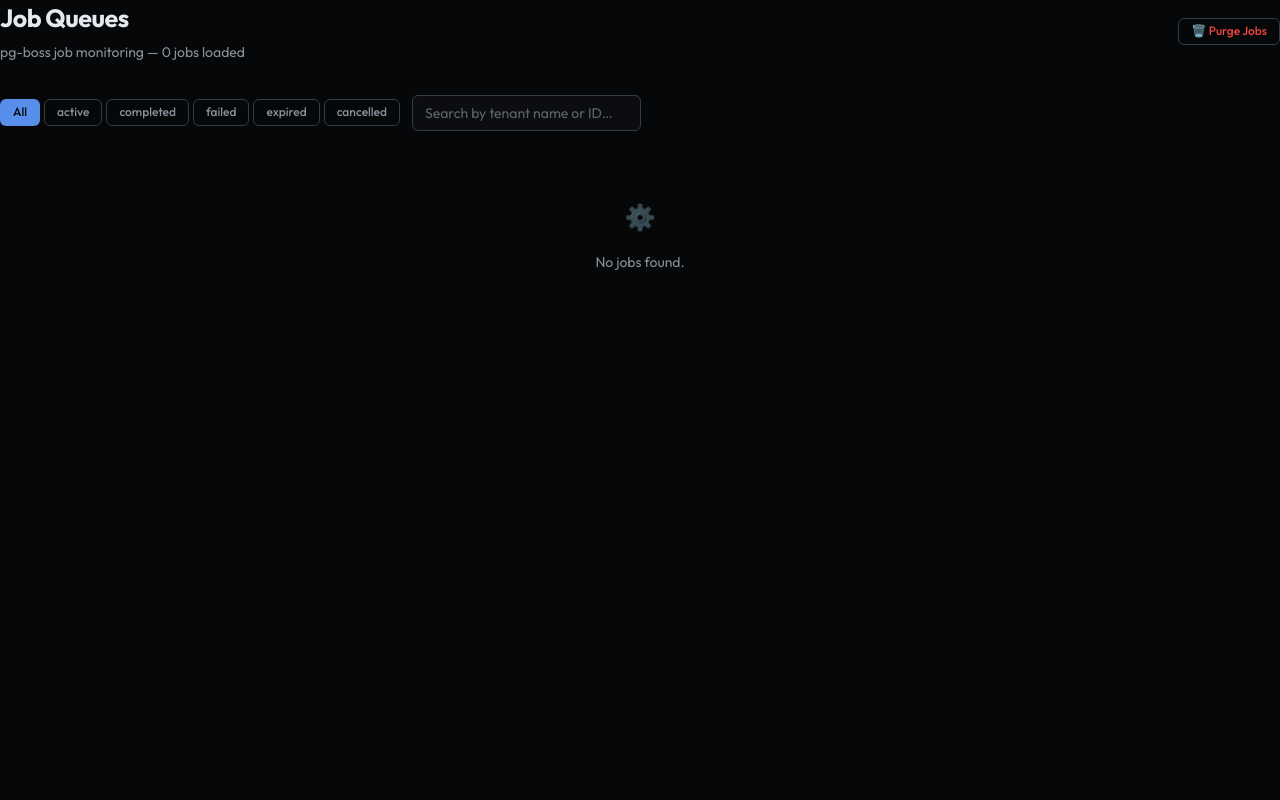
Test case: JobListPage › renders purge modal and validates confirmation input
Click the button "🗑️ Purge Jobs". click: (1229, 31)
box: x1=1178 y1=18 x2=1279 y2=45
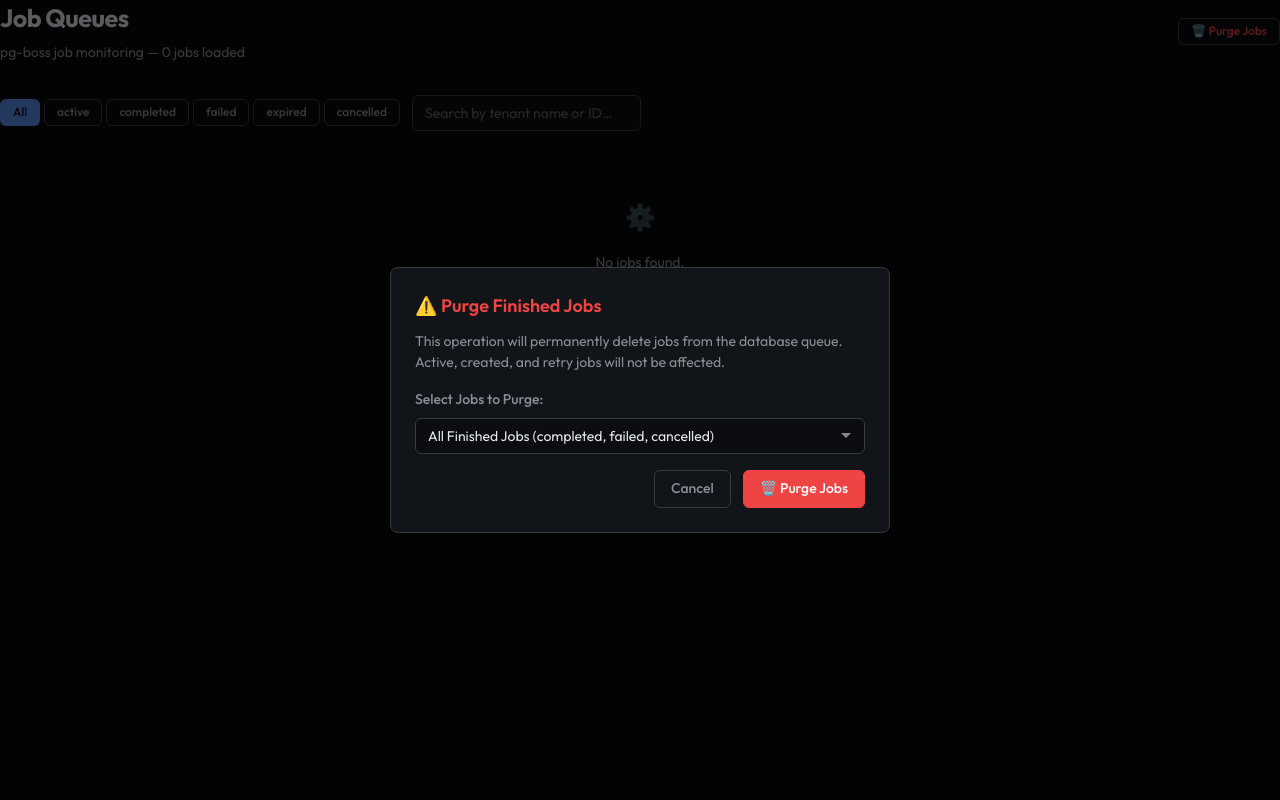
Now the heading "⚠️ Purge Finished Jobs" is shown, box x1=415 y1=294 x2=601 y2=317
Now the button with id "confirm-purge-jobs" is enabled, box x1=743 y1=470 x2=865 y2=508
